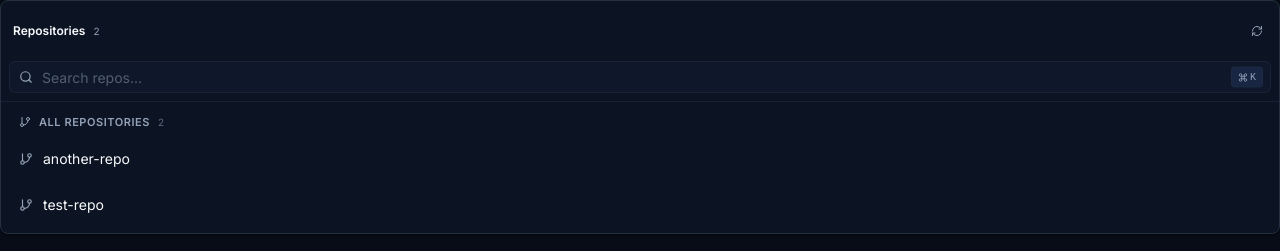
it: RepositorySelector › Expanded View › filters repos on search
This screenshot has width=1280, height=251.
Type "another" into the search field with placeholder "Search repos..." at (640, 77), box x1=9 y1=61 x2=1271 y2=93
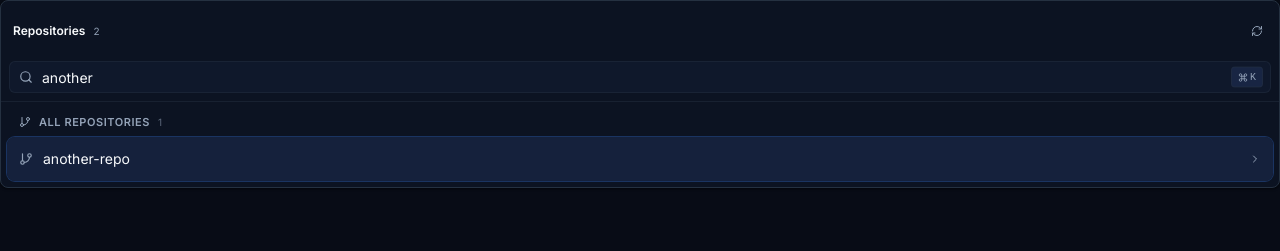
Check: the text "another-repo" is shown, box x1=43 y1=150 x2=130 y2=167
Check: the option "test-repo" is gone
